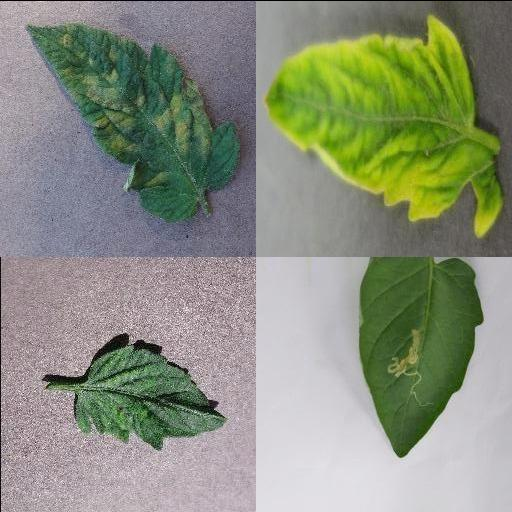Leaf Miner: (358, 256, 486, 457)
Leaf Mold: (26, 23, 238, 221)
Mosaic Virus: (72, 345, 226, 451)
Yellow Leaf Curl Virus: (262, 15, 502, 235)
